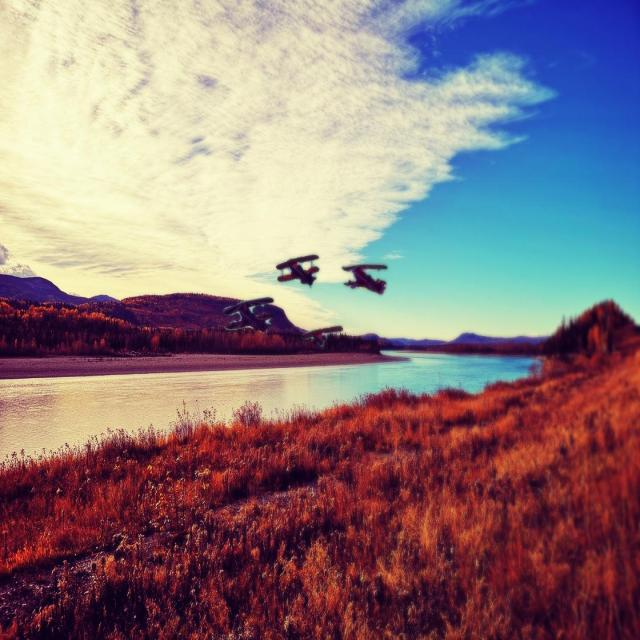airplane: (222, 297, 343, 348), (276, 254, 320, 288), (342, 264, 388, 294)
